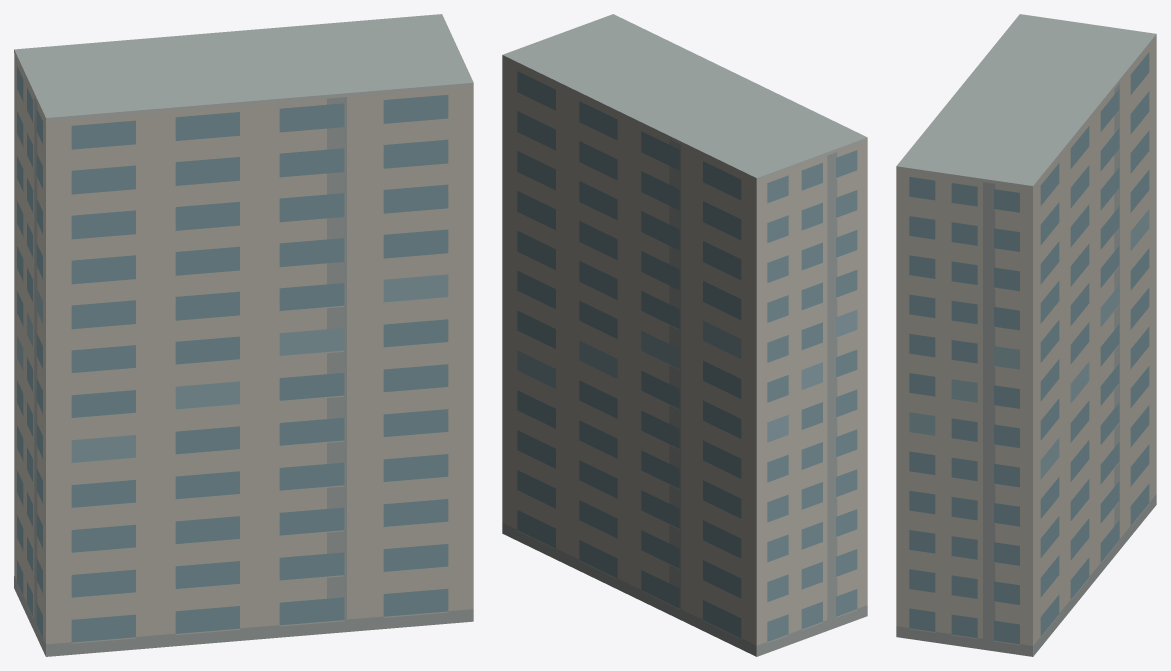
Rendered from residential-65435fc2-99ff-403e-ae31-107b18666459.glb.
The picture shows the model from 3 angles, left to right: view 1: azimuth 30°, elevation 25°; view 2: azimuth 150°, elevation 25°; view 3: azimuth 270°, elevation 25°; orthographic projection. The views are drawn at different scales.
Parts seen in each view (by area): view 1: residential-65435fc2-99ff-403e-ae31-107b18666459.tmp; view 2: residential-65435fc2-99ff-403e-ae31-107b18666459.tmp; view 3: residential-65435fc2-99ff-403e-ae31-107b18666459.tmp.
Boxes of the visible parts, x1,y1,x2,y2 form: residential-65435fc2-99ff-403e-ae31-107b18666459.tmp: [14, 14, 473, 656]; residential-65435fc2-99ff-403e-ae31-107b18666459.tmp: [502, 14, 867, 656]; residential-65435fc2-99ff-403e-ae31-107b18666459.tmp: [896, 14, 1156, 656].
Bounding box in the file's own units: 27.45 × 35 × 17.56.
